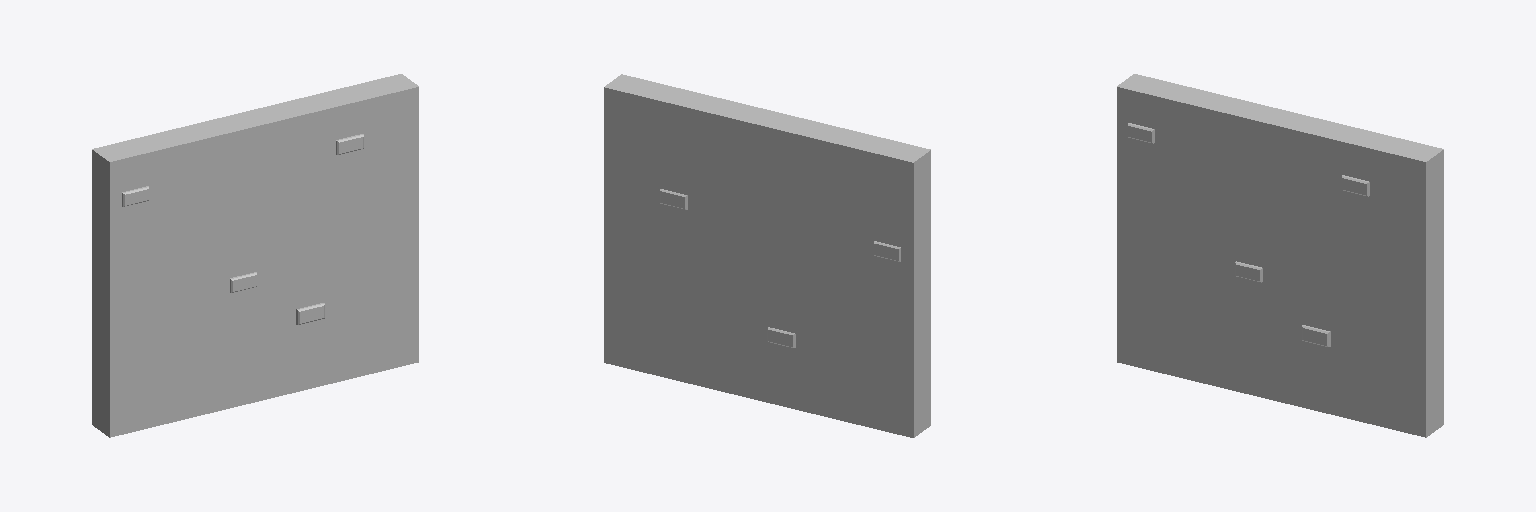
File: wall_03.obj
3 renders of one model, left to right at view 1: azimuth 30°, elevation 25°; view 2: azimuth 150°, elevation 25°; view 3: azimuth 330°, elevation 25°, orthographic.
Parts seen in each view (by area): view 1: Cube_Cube.004; view 2: Cube_Cube.004; view 3: Cube_Cube.004.
Boxes of the visible parts, x1,y1,x2,y2 form: Cube_Cube.004: [92, 74, 418, 437]; Cube_Cube.004: [604, 74, 930, 437]; Cube_Cube.004: [1117, 74, 1443, 437].
Size of the model in its own units: 2 by 1.7 by 0.234.